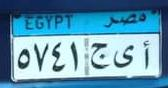1: (69, 40, 80, 75)
4: (50, 40, 66, 74)
5: (16, 48, 31, 72)
7: (33, 41, 49, 74)
alif: (140, 39, 152, 72)
jeem: (90, 41, 110, 70)
yaa: (112, 44, 137, 69)
